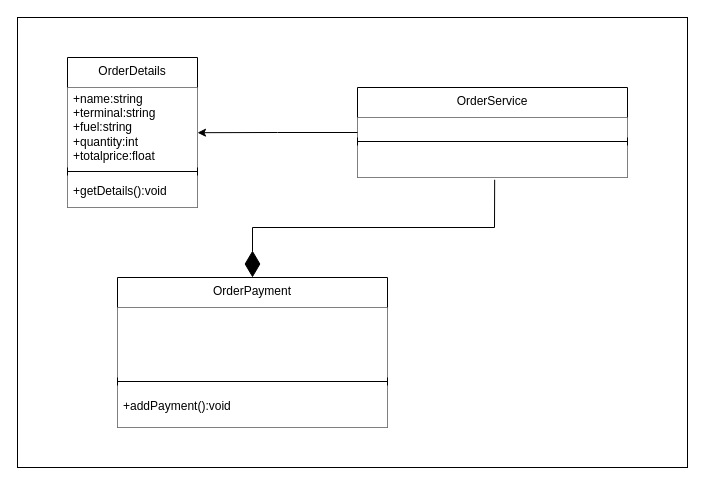
The diagram is 705 pixels wide and 485 high, and some of its shapes have lost their labels. The centre of each missing label's shape, as x and y in pixels:
"+addResponsible():void +getOrder():void" belongs at pixel 492 161.
"+bank:string +date:Date +operationnumber: Long +paymentamount: float" belongs at pixel 252 342.
"+orderpayment: Order Payment" belongs at pixel 492 127.
